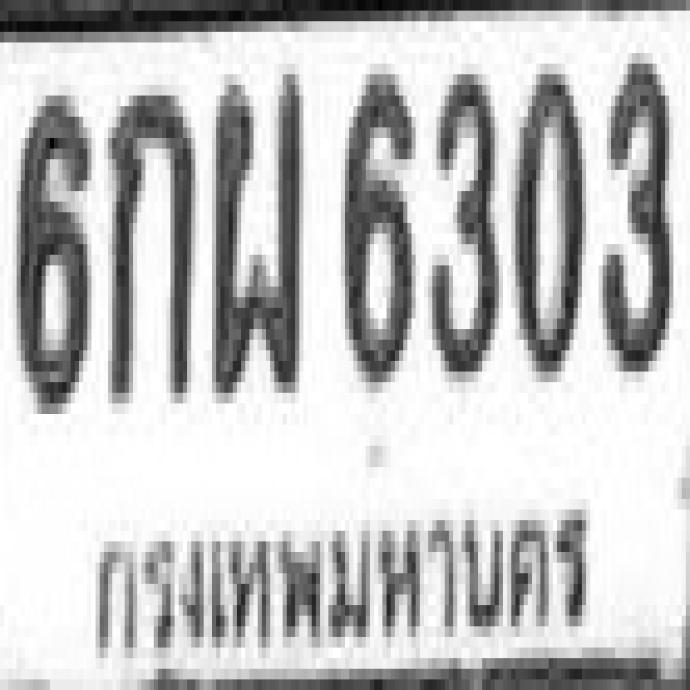0: (511, 61, 580, 369)
3: (597, 49, 667, 362), (427, 63, 493, 371)
6: (12, 86, 86, 403), (338, 64, 409, 375)
A01: (105, 83, 190, 395)
A28: (208, 65, 298, 389)
BKK: (84, 481, 601, 667)
